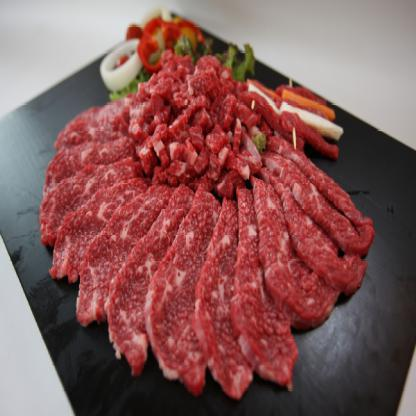beef: (74, 87, 366, 374)
